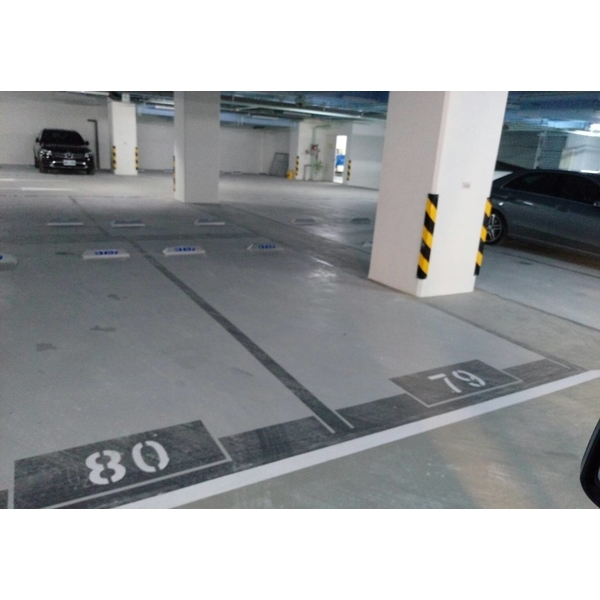car: (481, 152, 600, 253), (27, 121, 101, 178)
